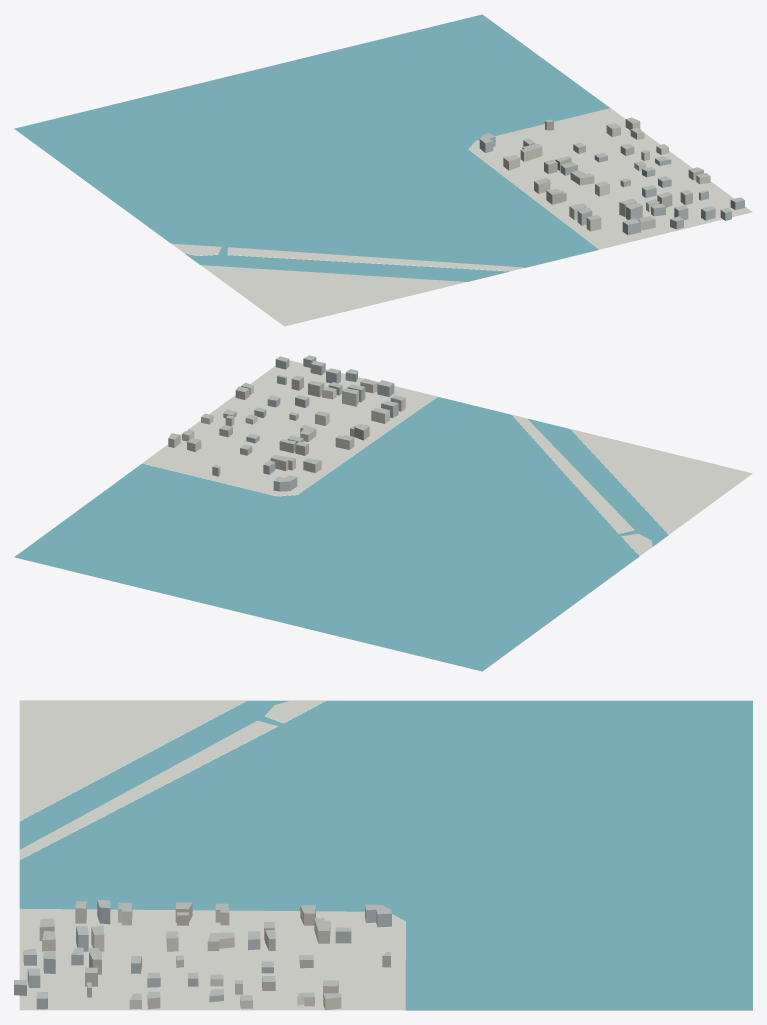
3 renders of one model, top to bottom at view 1: azimuth 30°, elevation 25°; view 2: azimuth 150°, elevation 25°; view 3: azimuth 270°, elevation 25°, orthographic. The views are drawn at different scales.
Parts seen in each view (by area): view 1: city; view 2: city; view 3: city.
Part boxes in pixels (x1=…): city: x1=14, y1=14, x2=752, y2=326; city: x1=14, y1=355, x2=752, y2=671; city: x1=14, y1=700, x2=752, y2=1010.
Bounding box in the file's own units: 500 × 12.98 × 504.
